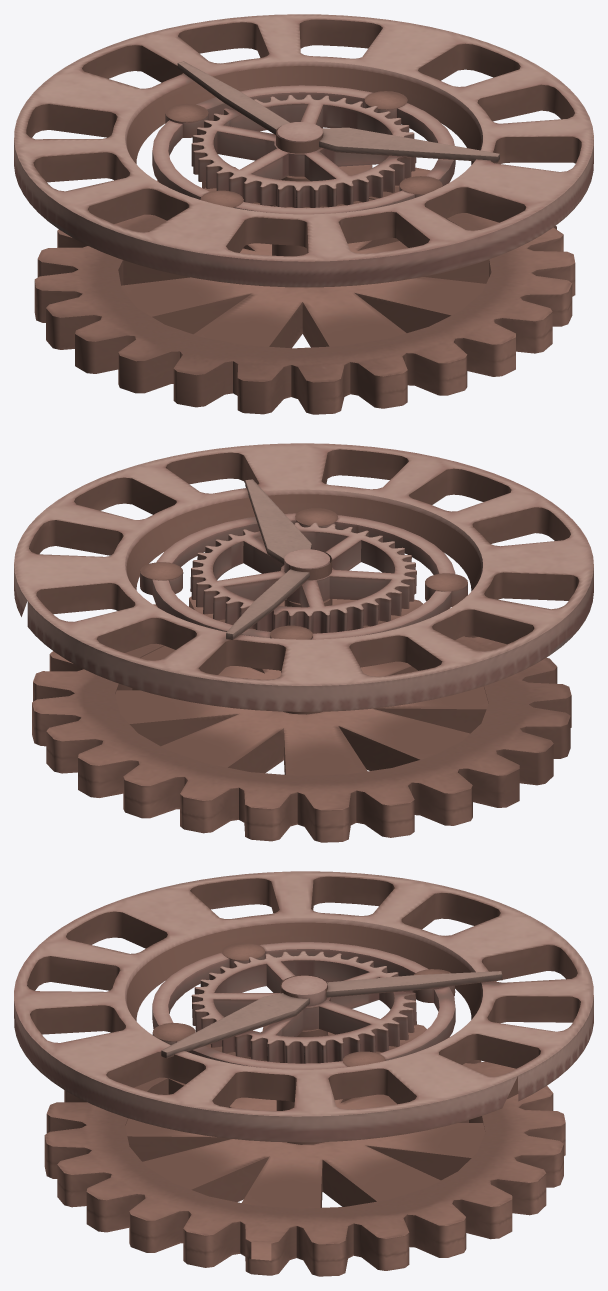
File: relojengrane4.obj
3 views of the same model, one above another, from view 1: azimuth 30°, elevation 25°; view 2: azimuth 150°, elevation 25°; view 3: azimuth 270°, elevation 25° (orthographic).
Visible parts, largest first — view 1: Part_003_part_03_0.001; view 2: Part_003_part_03_0.001; view 3: Part_003_part_03_0.001.
Part boxes in pixels (x1,y1,x2,y2): Part_003_part_03_0.001: (14,14,593,414); Part_003_part_03_0.001: (14,443,593,842); Part_003_part_03_0.001: (14,871,593,1276).
Size of the model in its own units: 2.65 by 0.8906 by 2.65.
